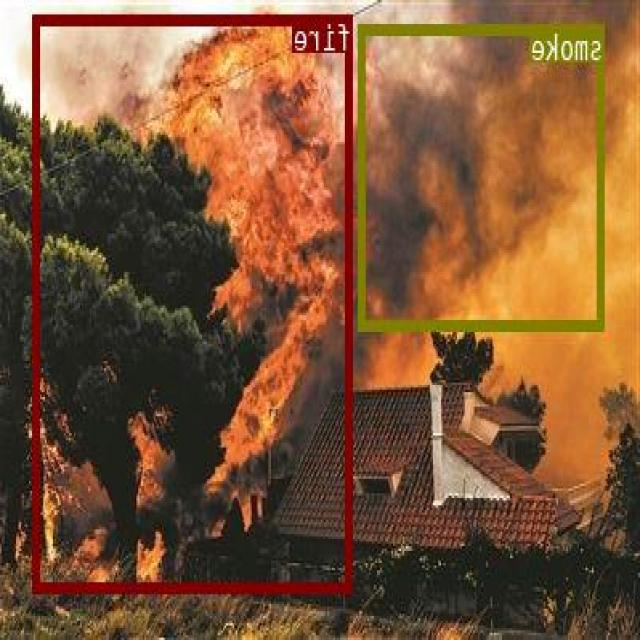fire: (34, 12, 353, 590)
smoke: (360, 24, 606, 328)
